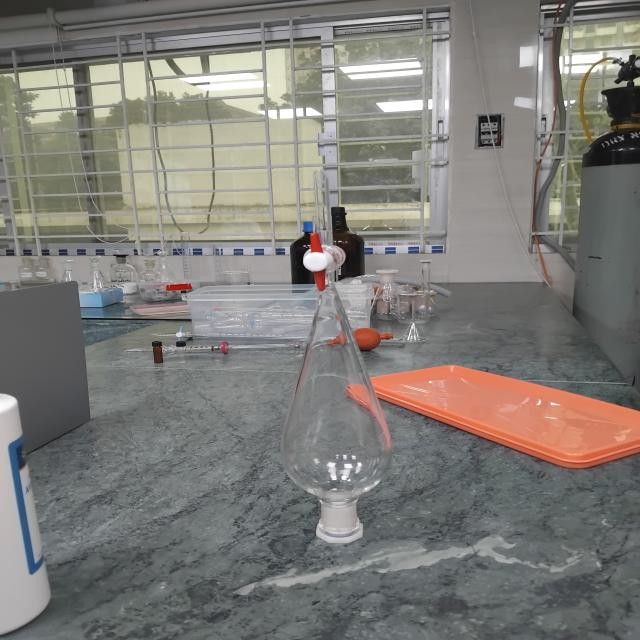Separating_Funnel: (254, 138, 412, 571)
